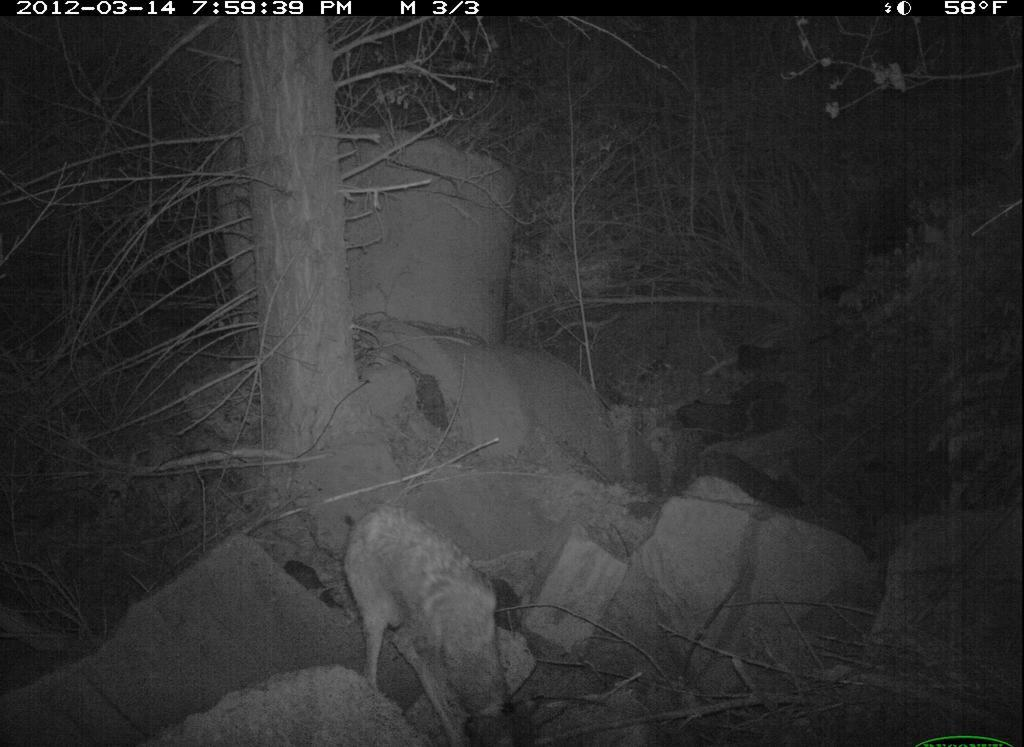coyote: (328, 491, 541, 744)
